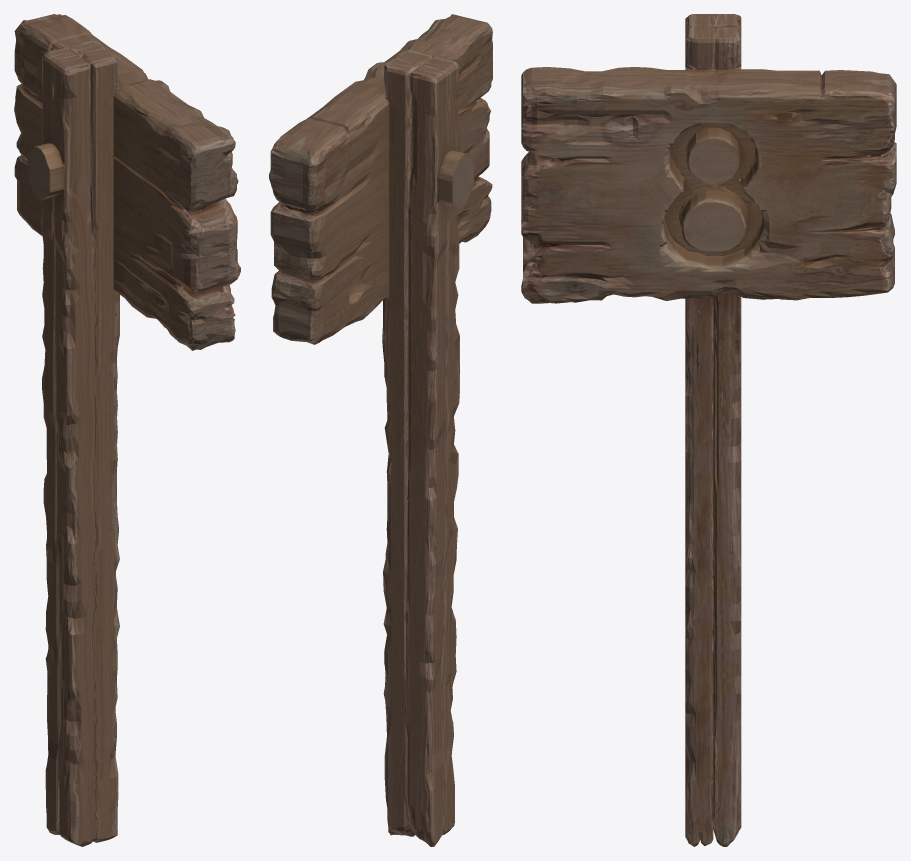
The model's file is Letrero 8a.glb.
The picture shows the model from 3 angles, left to right: view 1: azimuth 30°, elevation 25°; view 2: azimuth 150°, elevation 25°; view 3: azimuth 270°, elevation 25°; orthographic projection. The views are drawn at different scales.
Parts seen in each view (by area): view 1: tripo_node_92badd36-c03c-4a97-9581-870432892bb1; view 2: tripo_node_92badd36-c03c-4a97-9581-870432892bb1; view 3: tripo_node_92badd36-c03c-4a97-9581-870432892bb1.
Boxes of the visible parts, x1,y1,x2,y2 form: tripo_node_92badd36-c03c-4a97-9581-870432892bb1: (14,14,240,846); tripo_node_92badd36-c03c-4a97-9581-870432892bb1: (269,14,492,846); tripo_node_92badd36-c03c-4a97-9581-870432892bb1: (521,14,896,846).
Bounding box in the file's own units: 0.1487 × 1 × 0.4207.
1 material, 1 textured.
